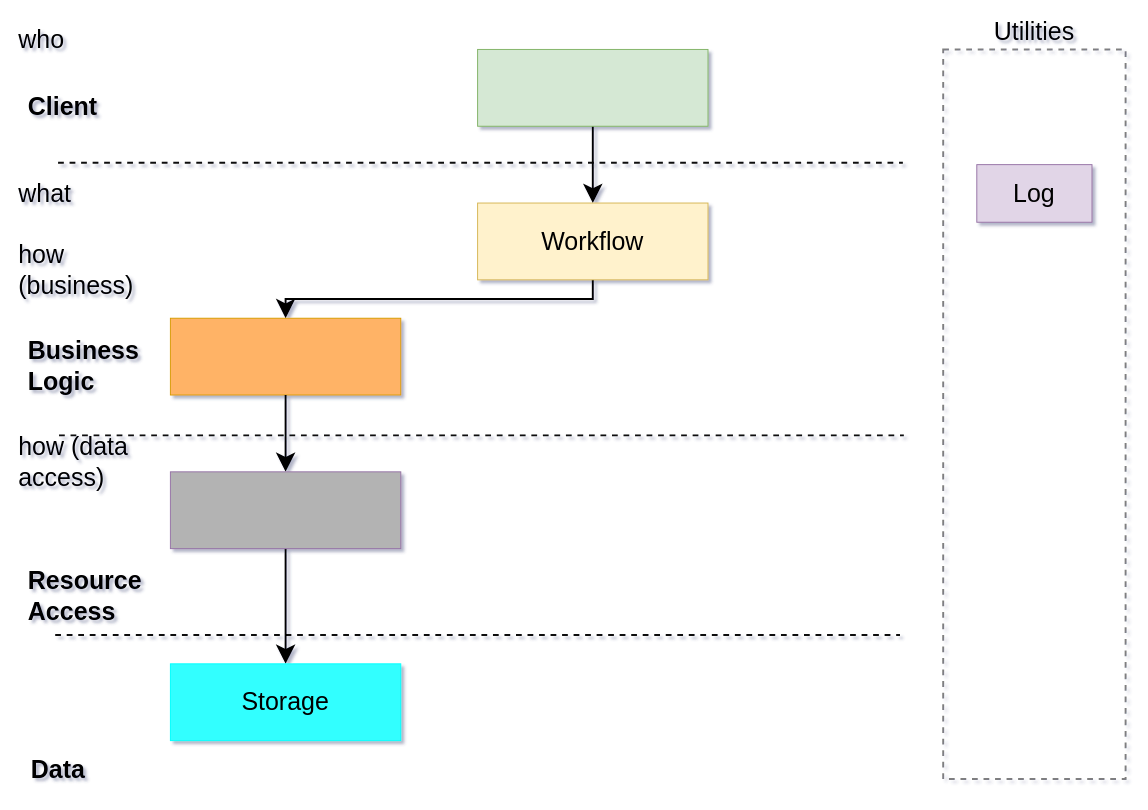
Image size: 1148x810. Some labels were removed from this diagram. The centre of each missing label's shape, as x and y in pixels:
"Analysis" goes at (x=285, y=356).
"API" goes at (x=592, y=87).
